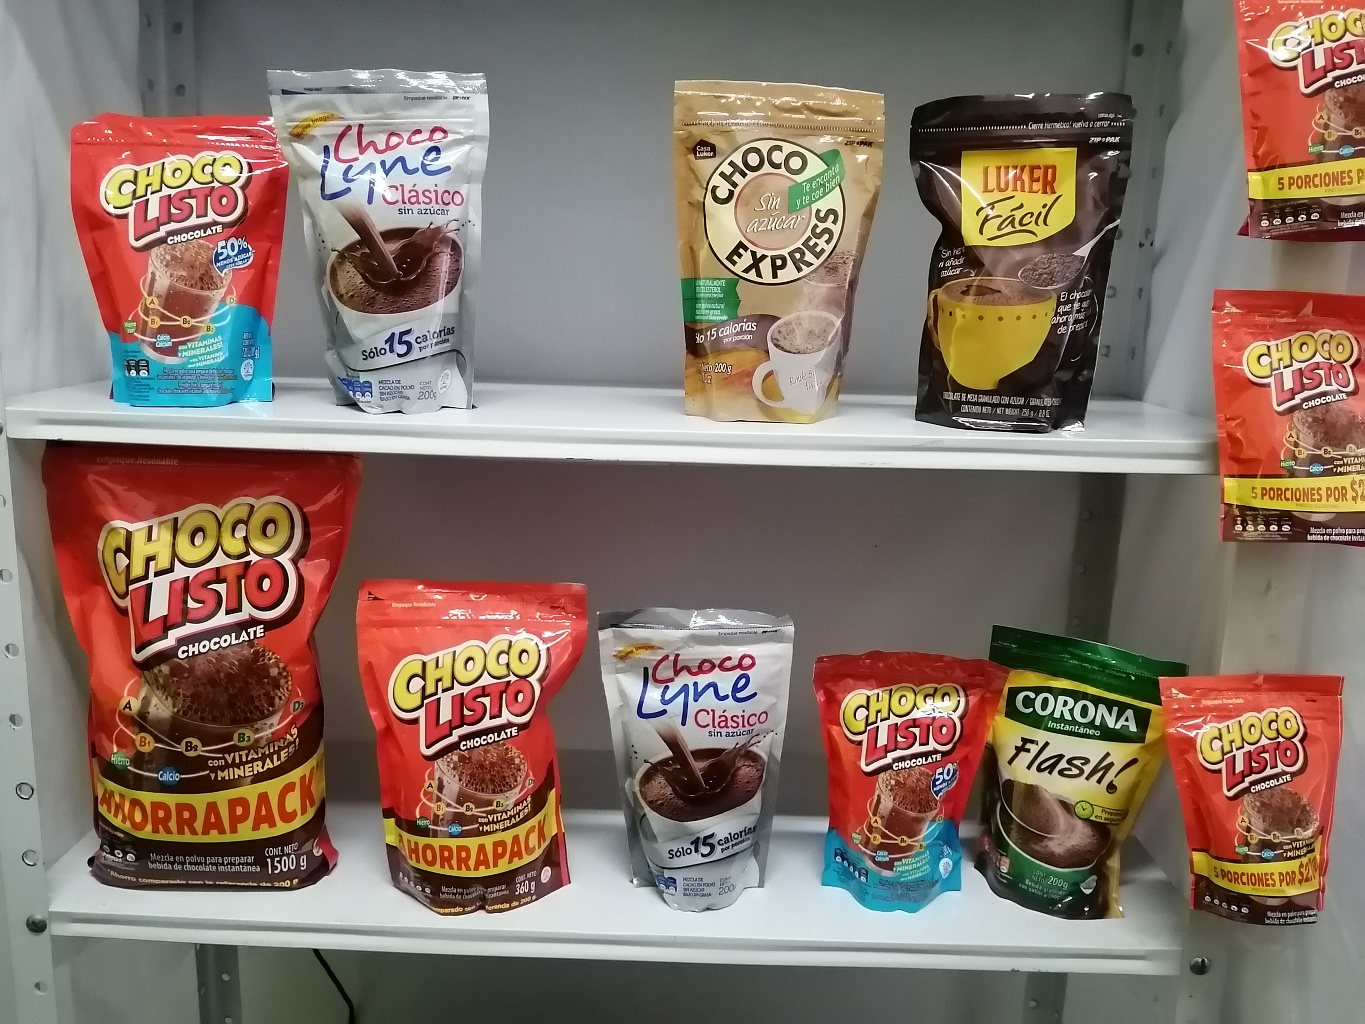COL0170103DYP1,500: (33, 435, 370, 894)
COL0170103DYP36000: (340, 565, 608, 925)
COL0170104DYP20000: (816, 643, 1006, 918)
